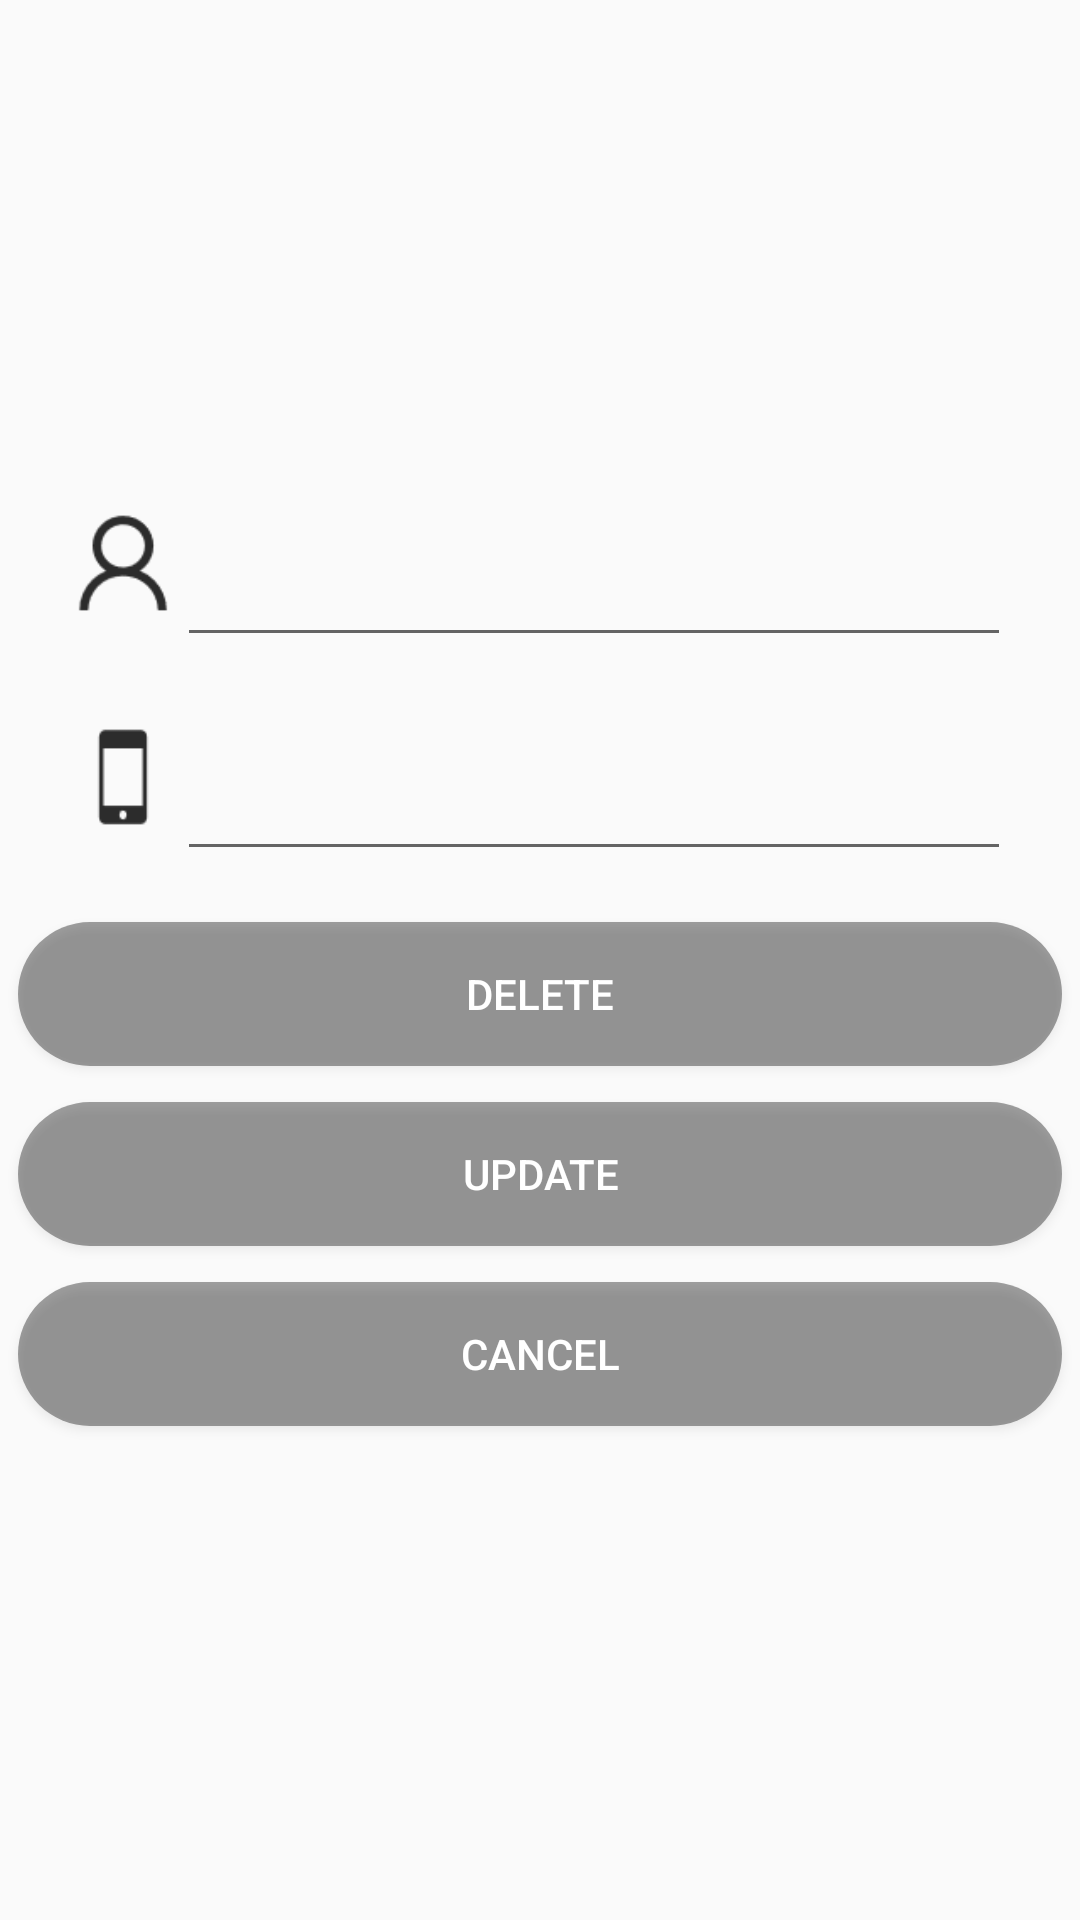

Icon click points for this 1080px×1920px phone screenshot, format point (x, y):
phoneparent: point (123, 777)
